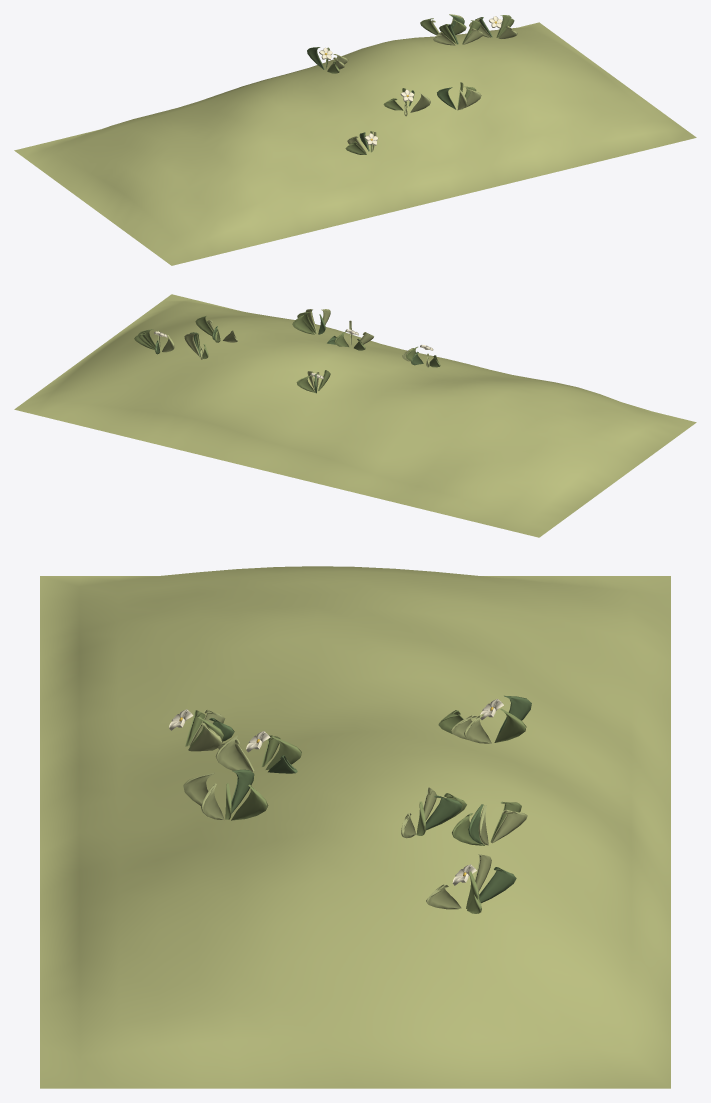
Rendered from garden3d_meadow.glb.
The picture shows the model from 3 angles, top to bottom: view 1: azimuth 30°, elevation 25°; view 2: azimuth 150°, elevation 25°; view 3: azimuth 270°, elevation 25°; orthographic projection. The views are drawn at different scales.
Parts seen in each view (by area): view 1: Terrain / rounded meadow mound, Plants / curved grass blades (×3), Meadow / small daisies / sculpted petals; view 2: Terrain / rounded meadow mound, Plants / curved grass blades (×3); view 3: Terrain / rounded meadow mound, Plants / curved grass blades (×3), Meadow / small daisies / sculpted petals.
Boxes of the visible parts, left/top/right/bottom form: Terrain / rounded meadow mound: left=14, top=22, right=696, bottom=265; Plants / curved grass blades (×3): left=307, top=14, right=517, bottom=154; Meadow / small daisies / sculpted petals: left=319, top=16, right=502, bottom=145; Terrain / rounded meadow mound: left=14, top=294, right=696, bottom=537; Plants / curved grass blades (×3): left=134, top=309, right=440, bottom=393; Terrain / rounded meadow mound: left=40, top=566, right=670, bottom=1088; Plants / curved grass blades (×3): left=183, top=695, right=531, bottom=913; Meadow / small daisies / sculpted petals: left=169, top=699, right=503, bottom=885.
Bounding box in the file's own units: 12.5 × 1.93 × 6.5.
